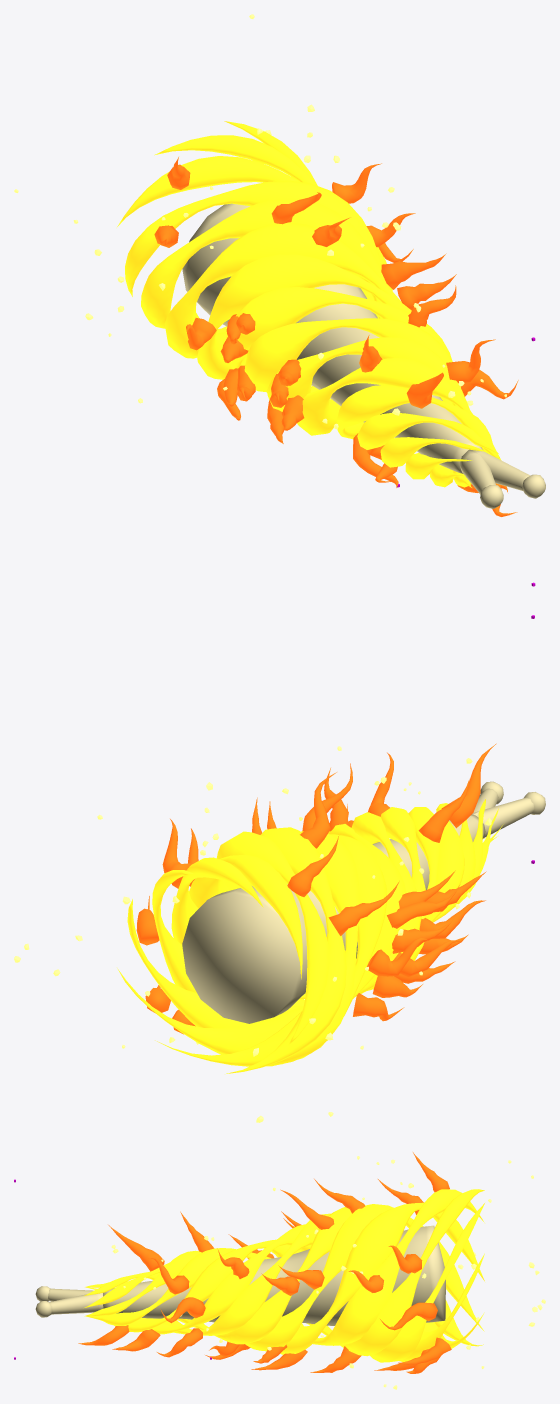
The model's file is FireUltimate.fbx.
3 renders of one model, top to bottom at view 1: azimuth 30°, elevation 25°; view 2: azimuth 150°, elevation 25°; view 3: azimuth 270°, elevation 25°, orthographic. The views are drawn at different scales.
Parts seen in each view (by area): view 1: Flames, Wisps, Core.001, Embers; view 2: Flames, Core.001, Wisps, Embers; view 3: Flames, Wisps, Core.001, Embers.
Part boxes in pixels (x1,y1,x2,y2): Flames: [117, 121, 501, 487]; Wisps: [154, 157, 518, 516]; Core.001: [182, 203, 545, 508]; Embers: [14, 14, 506, 429]; Flames: [117, 799, 503, 1073]; Core.001: [182, 781, 545, 1023]; Wisps: [136, 743, 496, 1034]; Embers: [14, 746, 491, 1122]; Flames: [84, 1189, 484, 1362]; Wisps: [78, 1152, 451, 1373]; Core.001: [35, 1225, 445, 1325]; Embers: [111, 1156, 545, 1389].
Bounding box in the file's own units: 14.51 × 12.41 × 27.15.
